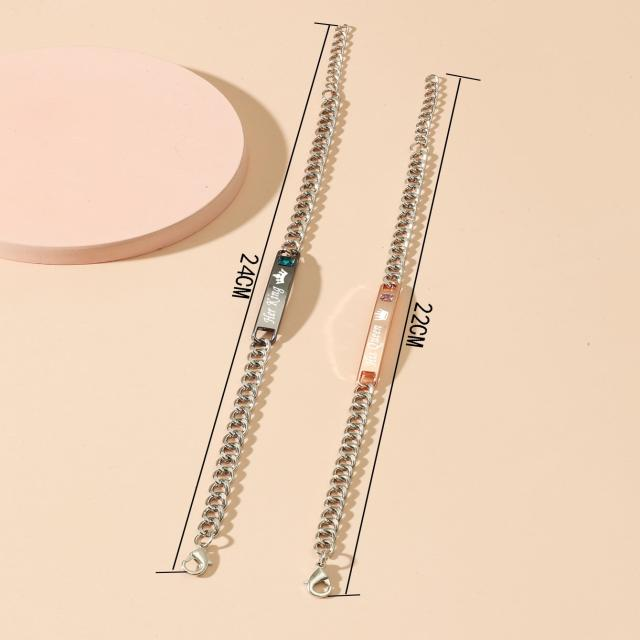bracelet: (78, 11, 511, 639)
